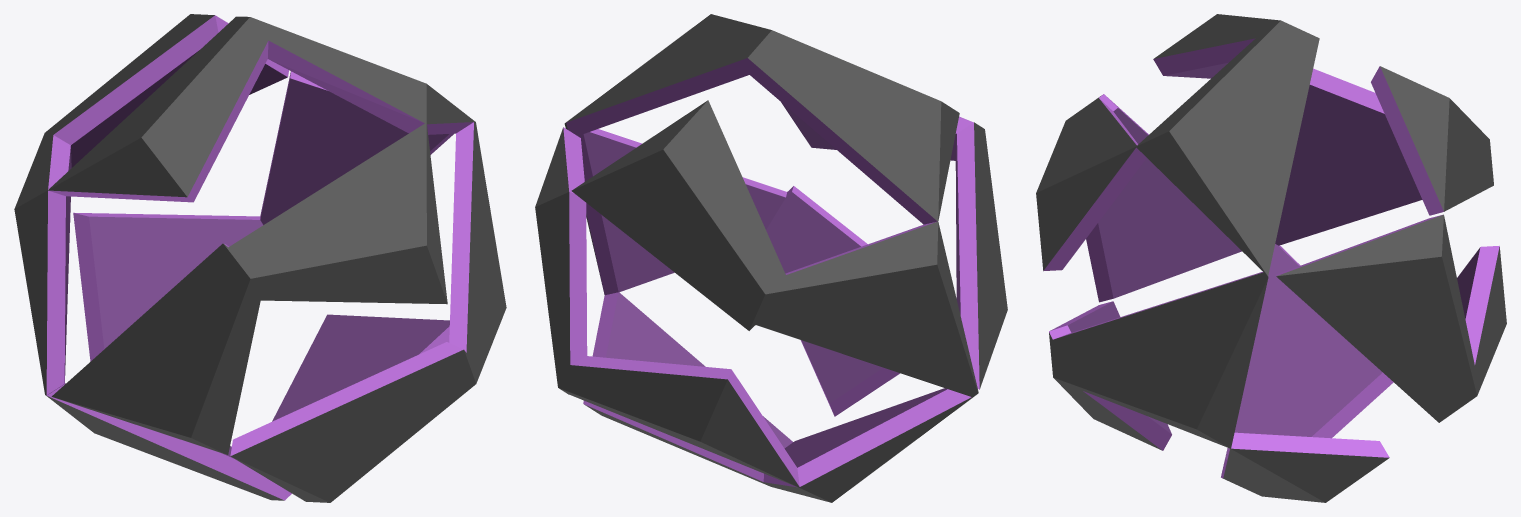
File: lp_sphere_open1.fbx
The picture shows the model from 3 angles, left to right: view 1: azimuth 30°, elevation 25°; view 2: azimuth 150°, elevation 25°; view 3: azimuth 270°, elevation 25°; orthographic projection. The views are drawn at different scales.
Visible parts, largest first — view 1: pSolid5; view 2: pSolid5; view 3: pSolid5.
Part boxes in pixels (box(x1,y1,x2,y2)): pSolid5: box(14, 14, 506, 502); pSolid5: box(535, 14, 1007, 502); pSolid5: box(1036, 14, 1506, 502).
Bounding box in the file's own units: 1.87 × 2 × 1.81.
